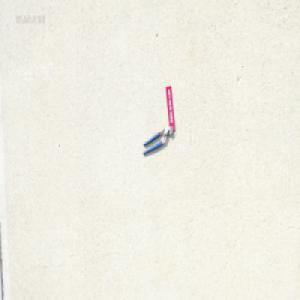Label: (165, 83, 176, 130)
Pliers: (142, 124, 173, 155)
